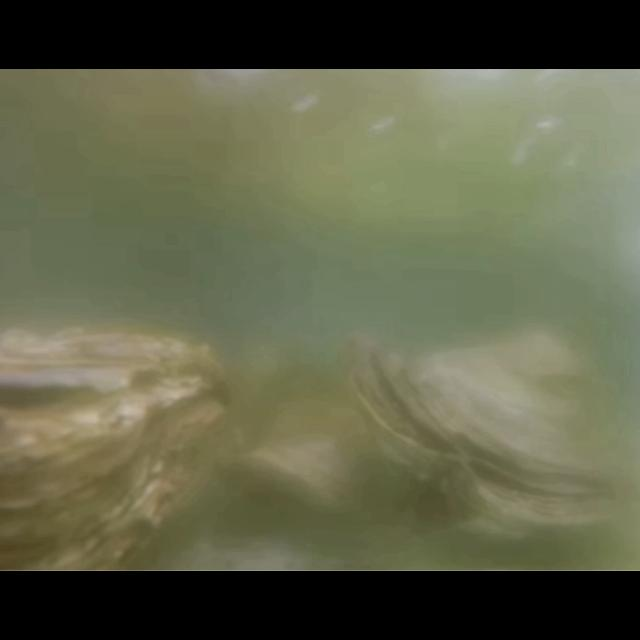Oyster-Closed: (340, 326, 632, 550), (0, 324, 244, 566)
Oyster-Indeterminate: (233, 402, 383, 520)
